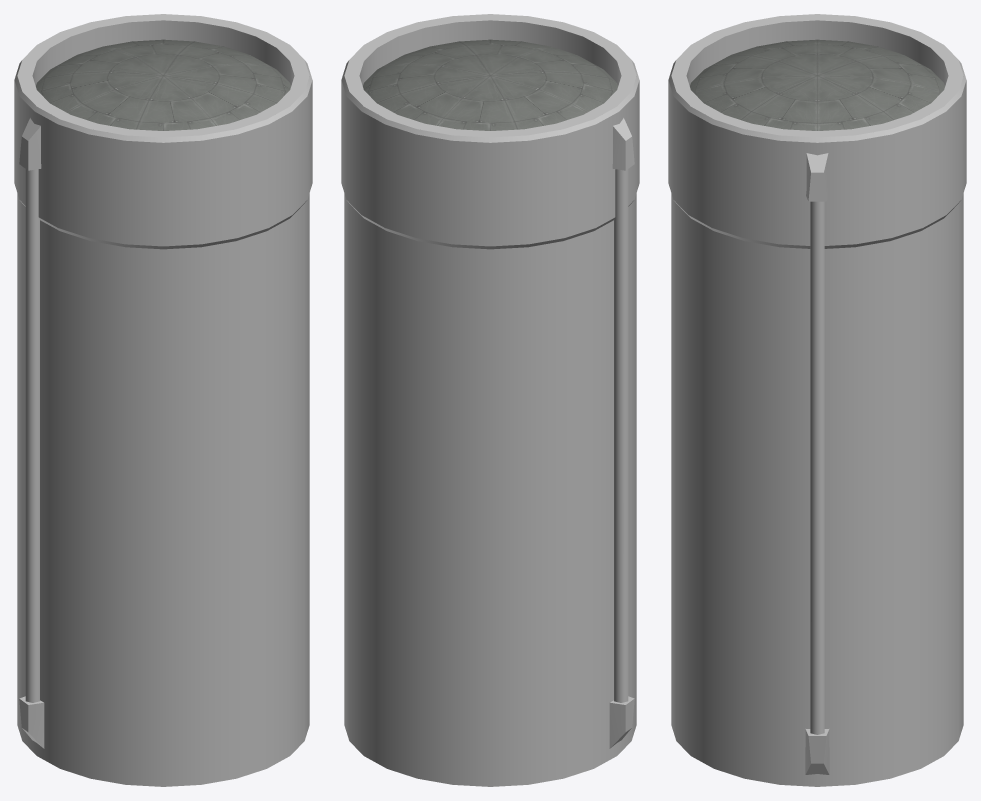
Rendered from Saturn_S1E_Tankage.dae.
3 views of the same model, side by side, from view 1: azimuth 30°, elevation 25°; view 2: azimuth 150°, elevation 25°; view 3: azimuth 270°, elevation 25° (orthographic).
Visible parts, largest first — view 1: S1E_Tankage_Merged_null147, S1E_Tankage_Merged_TankTopper7, polySurface62; view 2: S1E_Tankage_Merged_null147, S1E_Tankage_Merged_TankTopper7, polySurface62; view 3: S1E_Tankage_Merged_null147, S1E_Tankage_Merged_TankTopper7, polySurface62.
Part boxes in pixels (x1,y1,x2,y2): S1E_Tankage_Merged_null147: (14, 60, 312, 786); S1E_Tankage_Merged_TankTopper7: (36, 39, 290, 130); polySurface62: (17, 14, 309, 137); S1E_Tankage_Merged_null147: (341, 60, 639, 786); S1E_Tankage_Merged_TankTopper7: (363, 39, 617, 130); polySurface62: (344, 14, 636, 137); S1E_Tankage_Merged_null147: (668, 60, 966, 786); S1E_Tankage_Merged_TankTopper7: (690, 39, 944, 130); polySurface62: (671, 14, 963, 137).
Size of what is drawn, in the model's own units: 4.14 by 9.2 by 3.83.
